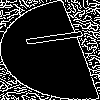I: (24, 25, 100, 49)
